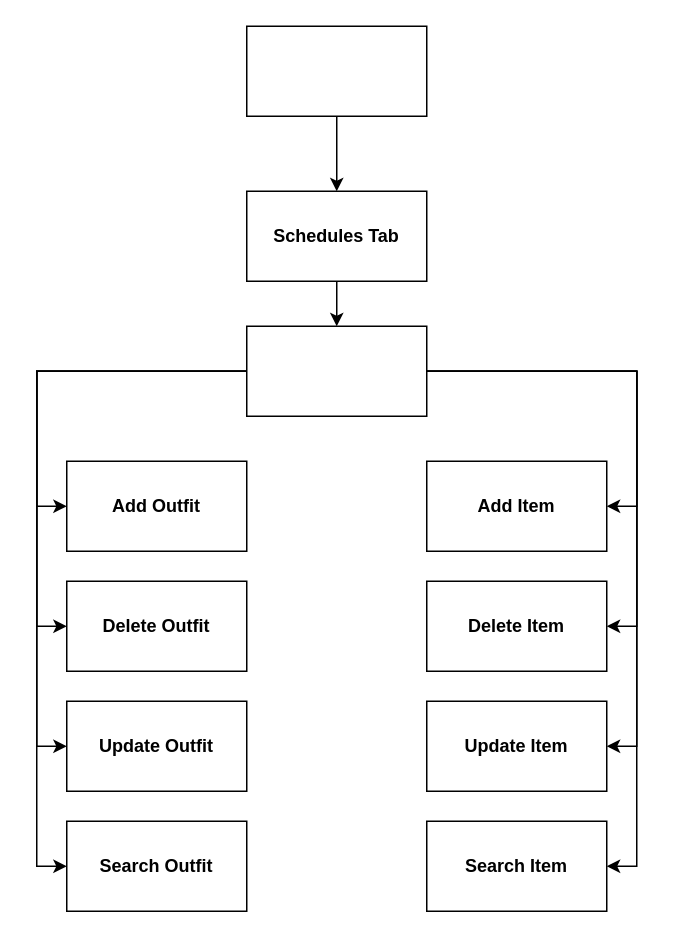
This 675x938 diagram has some shape labels left out. Each missing label, with the centre of its shape:
Calendar: point 336,370
OOTDLY APPLICATION: point 336,70
